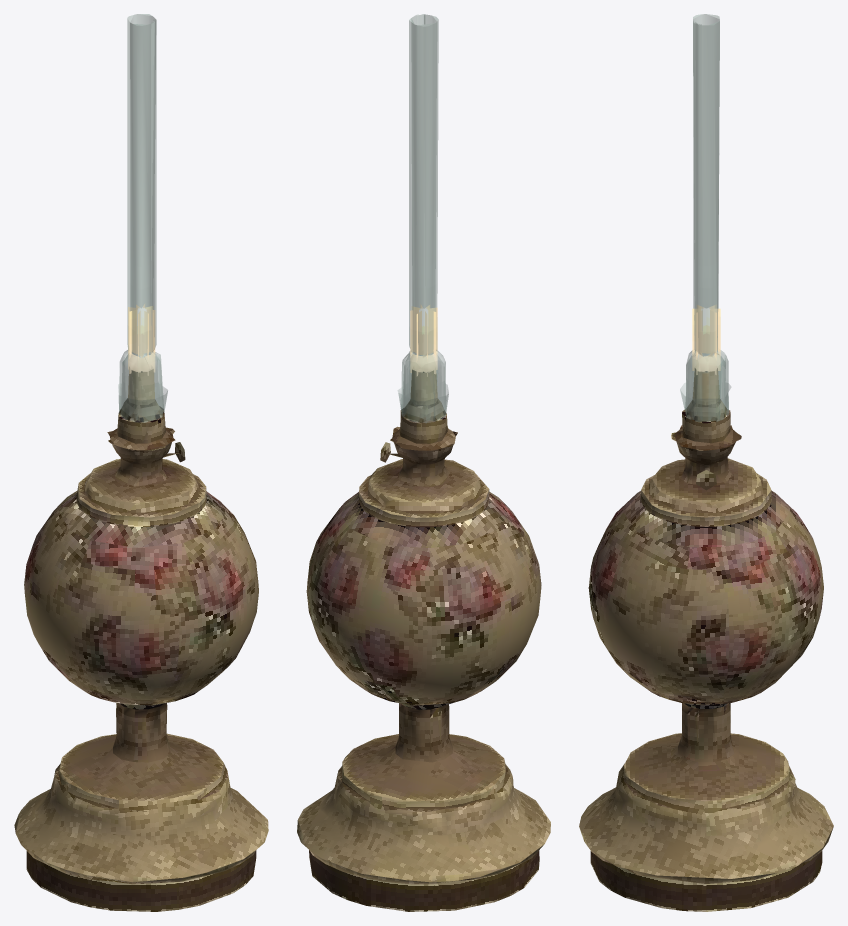
File: oil_lamp.glb
3 renders of one model, left to right at view 1: azimuth 30°, elevation 25°; view 2: azimuth 150°, elevation 25°; view 3: azimuth 270°, elevation 25°, orthographic.
Parts seen in each view (by area): view 1: body, glass, flame; view 2: body, glass, flame; view 3: body, glass, flame.
Part boxes in pixels (left/top/right/bottom): body: left=14, top=367, right=268, bottom=911; glass: left=118, top=14, right=167, bottom=422; flame: left=128, top=304, right=155, bottom=375; body: left=297, top=369, right=550, bottom=911; glass: left=398, top=14, right=448, bottom=423; flame: left=410, top=304, right=437, bottom=376; body: left=579, top=368, right=833, bottom=911; glass: left=680, top=14, right=730, bottom=422; flame: left=692, top=305, right=720, bottom=374.
Size of the model in its own units: 0.2154 by 0.8016 by 0.2196.
3 materials, 3 textured.
